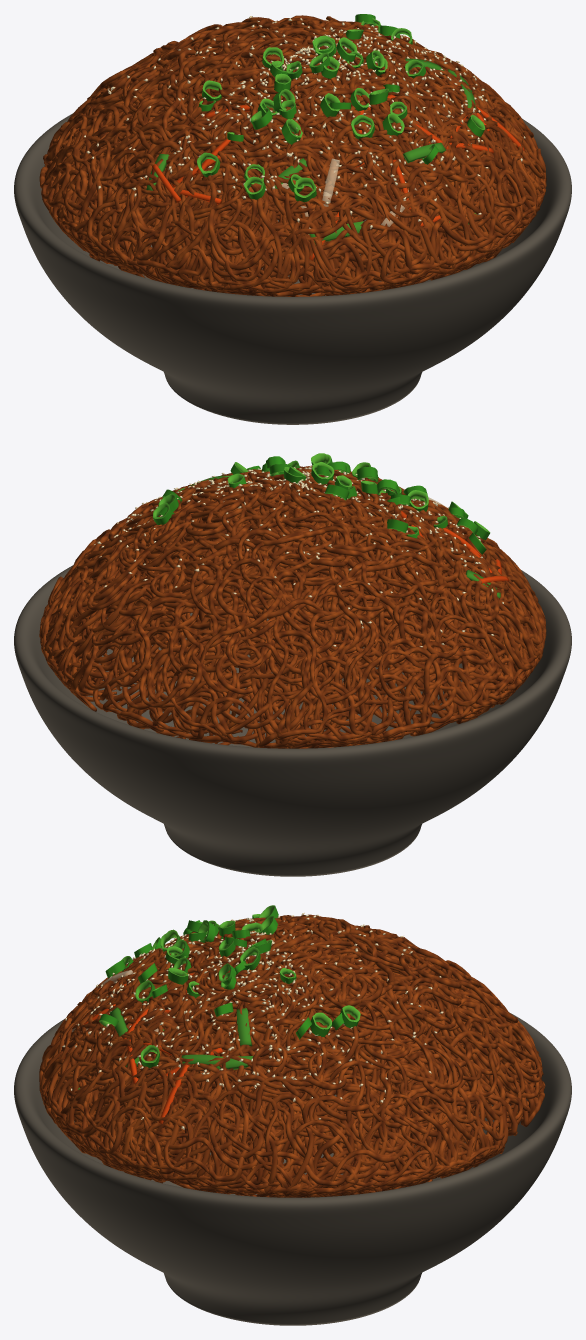
The model's file is wok-tossed-chow-mein-high.glb.
3 renders of one model, top to bottom at view 1: azimuth 30°, elevation 25°; view 2: azimuth 150°, elevation 25°; view 3: azimuth 270°, elevation 25°, orthographic.
Parts seen in each view (by area): view 1: Noodles_BaseEnsemble, Donburi_Bowl, Scallion_00, Sesame_Seeds_RaycastLocked, Scallion_00.001, Carrot_00, BokChoy_00, Onion_00; view 2: Noodles_BaseEnsemble, Donburi_Bowl, Scallion_00.001, Scallion_00, Sesame_Seeds_RaycastLocked; view 3: Noodles_BaseEnsemble, Donburi_Bowl, Scallion_00.001, Sesame_Seeds_RaycastLocked, Scallion_00, BokChoy_00, Carrot_00.
Boxes of the visible parts, x1,y1,x2,y2 form: Noodles_BaseEnsemble: [39, 15, 546, 296]; Donburi_Bowl: [14, 113, 571, 424]; Scallion_00: [197, 18, 485, 197]; Sesame_Seeds_RaycastLocked: [84, 16, 525, 229]; Scallion_00.001: [198, 14, 484, 202]; Carrot_00: [152, 83, 524, 260]; BokChoy_00: [146, 58, 476, 244]; Onion_00: [269, 119, 442, 234]; Noodles_BaseEnsemble: [39, 465, 546, 748]; Donburi_Bowl: [14, 565, 571, 876]; Scallion_00.001: [153, 456, 489, 554]; Scallion_00: [153, 453, 490, 548]; Sesame_Seeds_RaycastLocked: [94, 466, 503, 647]; Noodles_BaseEnsemble: [39, 914, 545, 1197]; Donburi_Bowl: [14, 1012, 571, 1325]; Scallion_00.001: [99, 906, 359, 1067]; Sesame_Seeds_RaycastLocked: [62, 912, 443, 1129]; Scallion_00: [99, 905, 360, 1062]; BokChoy_00: [78, 958, 253, 1089]; Carrot_00: [64, 973, 222, 1123].
Bounding box in the file's own units: 2.2 × 1.48 × 2.2.
Materials: 8 (1 with a texture image).
